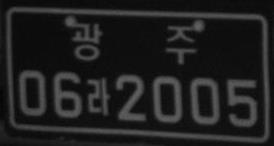0: (151, 73, 184, 125), (188, 75, 221, 127), (17, 68, 48, 118)
2: (114, 73, 148, 124)
5: (225, 76, 259, 129)
6: (51, 70, 83, 119)
광주_D: (70, 20, 197, 66)
라: (85, 77, 111, 117)
